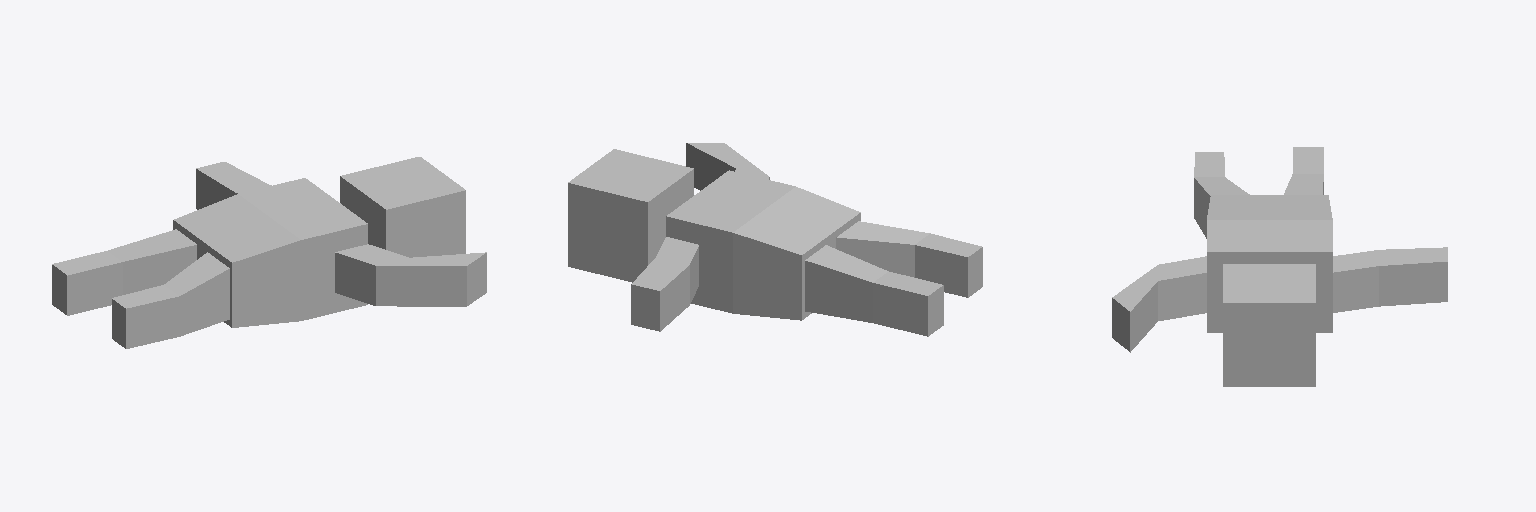
The model's file is deadbody.obj.
3 renders of one model, left to right at view 1: azimuth 30°, elevation 25°; view 2: azimuth 150°, elevation 25°; view 3: azimuth 270°, elevation 25°, orthographic.
Parts seen in each view (by area): view 1: 立方体.001, 立方体; view 2: 立方体.001, 立方体; view 3: 立方体.001, 立方体.
Boxes of the visible parts, x1,y1,x2,y2 form: 立方体.001: [52, 162, 486, 348]; 立方体: [340, 157, 465, 257]; 立方体.001: [631, 143, 982, 336]; 立方体: [568, 149, 693, 282]; 立方体.001: [1112, 147, 1447, 352]; 立方体: [1223, 264, 1315, 386].
Size of the model in its own units: 0.8952 by 0.1971 by 0.7144.